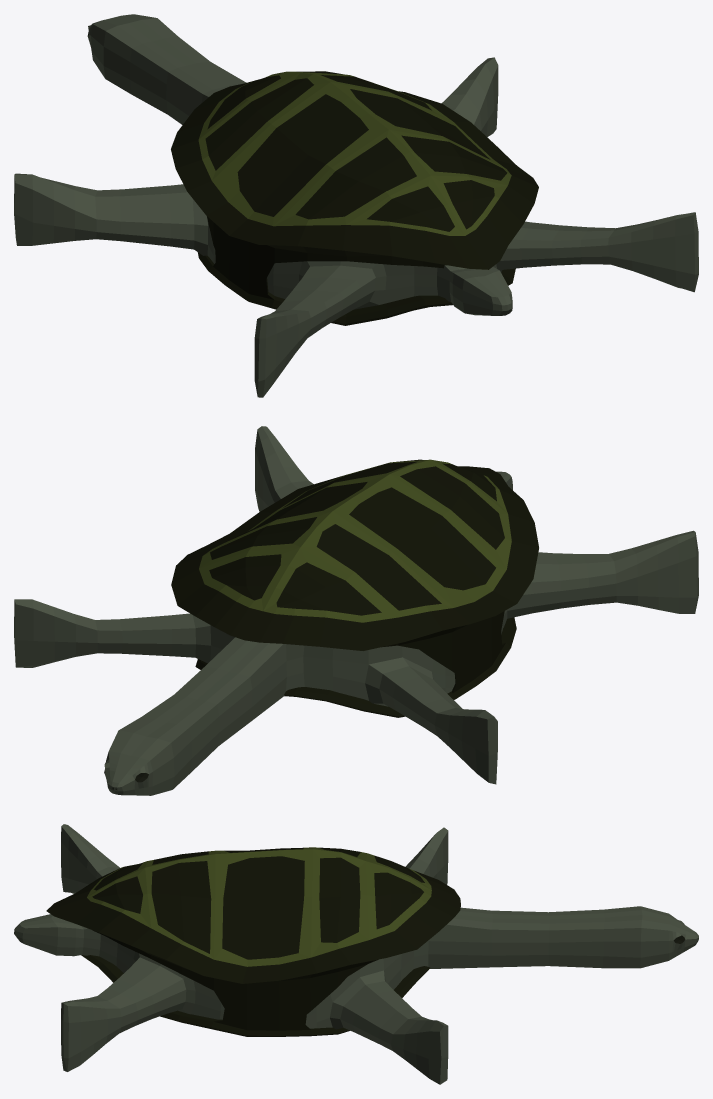
Rendered from turtle.obj.
The picture shows the model from 3 angles, top to bottom: view 1: azimuth 30°, elevation 25°; view 2: azimuth 150°, elevation 25°; view 3: azimuth 270°, elevation 25°; orthographic projection. The views are drawn at different scales.
Parts seen in each view (by area): view 1: Plane, Plane.001, Plane.002; view 2: Plane, Plane.002, Plane.001; view 3: Plane, Plane.002, Plane.001.
Boxes of the visible parts, x1,y1,x2,y2 form: Plane: [171, 71, 538, 325]; Plane.001: [254, 212, 698, 397]; Plane.002: [14, 14, 498, 263]; Plane: [171, 459, 538, 717]; Plane.002: [14, 599, 497, 795]; Plane.001: [255, 426, 698, 634]; Plane: [46, 847, 460, 1036]; Plane.002: [305, 827, 698, 1084]; Plane.001: [14, 824, 224, 1071].
Bounding box in the file's own units: 7.07 × 2.35 × 10.22.
